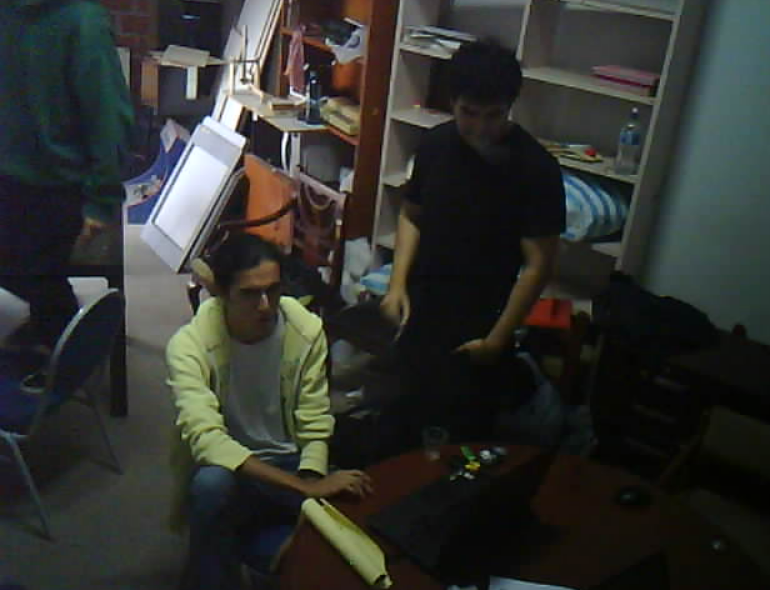person: (137, 228, 382, 590), (375, 25, 575, 468), (0, 0, 155, 404)
